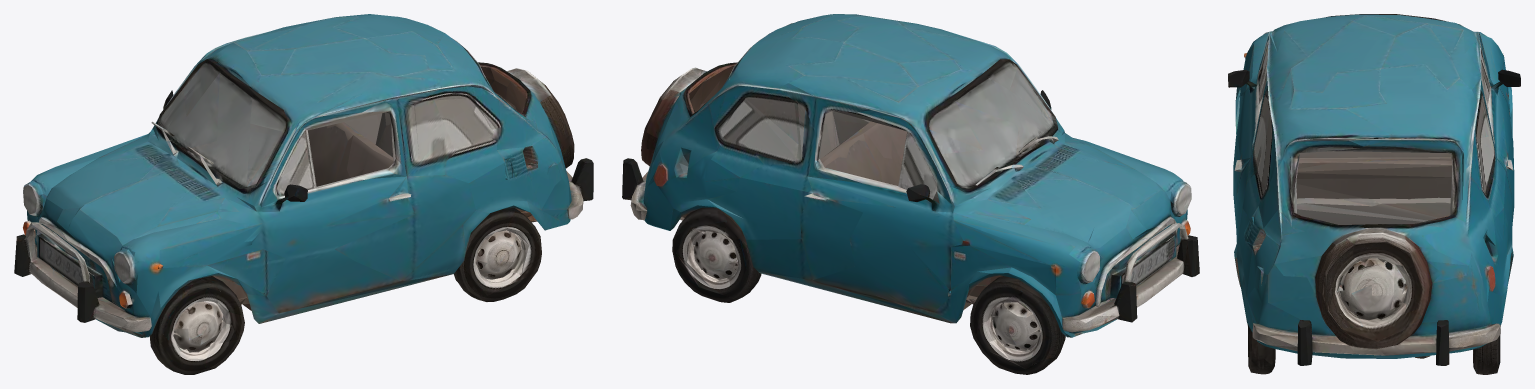
File: coche_compacto.glb
3 views of the same model, side by side, from view 1: azimuth 30°, elevation 25°; view 2: azimuth 150°, elevation 25°; view 3: azimuth 270°, elevation 25° (orthographic). The views are drawn at different scales.
Size of the model in its own units: 1.9 by 0.8479 by 0.8634.
Materials: 1 (1 with a texture image).
